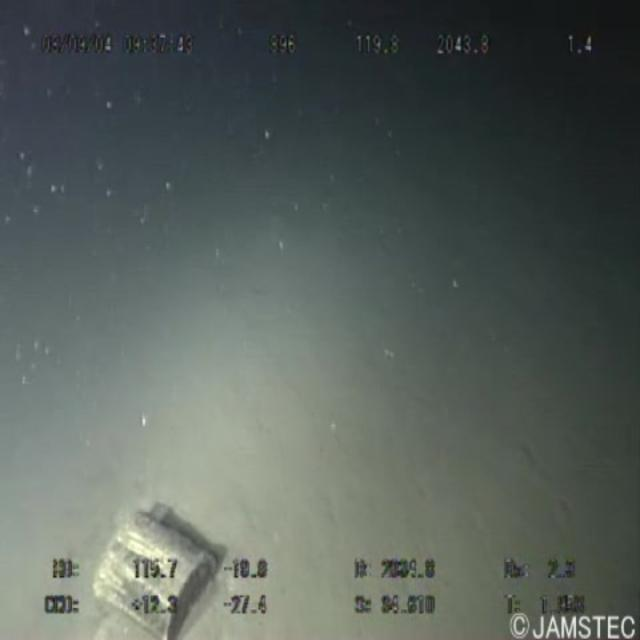Metal: (71, 506, 238, 640)
